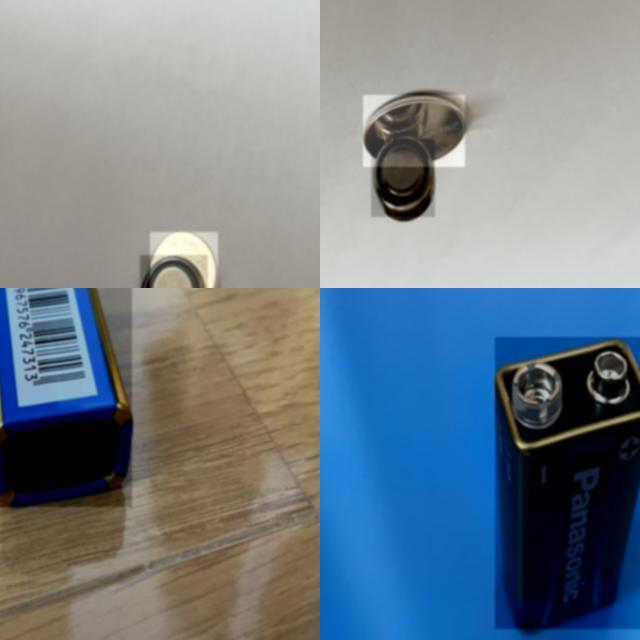9V: (495, 337, 640, 629), (0, 288, 132, 507)
